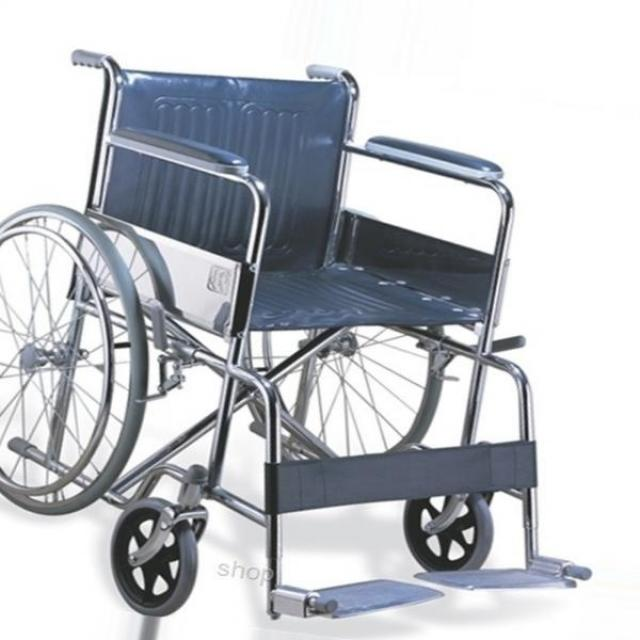wheelchair: (8, 38, 596, 622)
